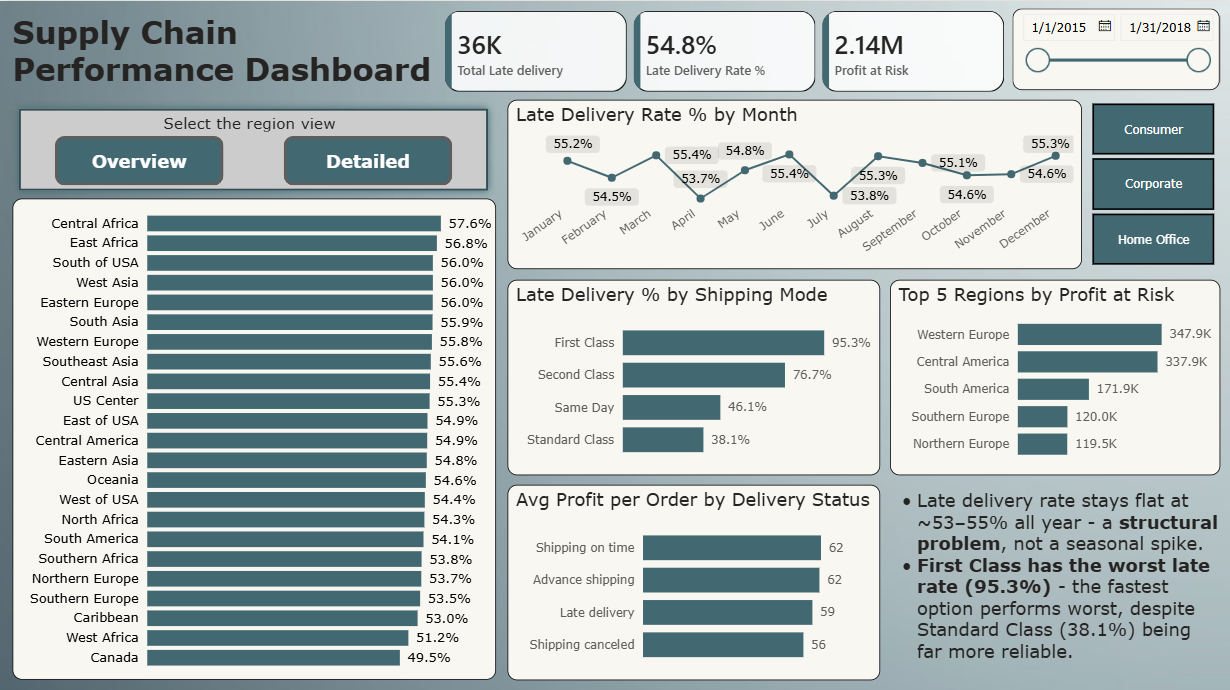

The page's visual inventory and layout, read from the dashboard file:
{"tool":"powerbi","page":{"name":"Delivery Performance","canvas":[1280,720],"ordinal":1},"visuals":[{"type":"slicer","fields":{"Values":["dim_customers.customer_segment"]},"box":[1114.3,102.9,166.2,175],"z":0},{"type":"shape","box":[12.2,104.4,503.3,101.1],"z":1000},{"type":"barChart","title":"Late Delivery % by region","fields":{"Category":["fact_orders.order_region"],"Y":["_Measures.Late Delivery Rate %"]},"box":[12.5,205,502,500],"z":2000},{"type":"slicer","fields":{"Values":["fact_orders.order_date"]},"box":[1052.5,8.2,215.4,85.1],"z":4000},{"type":"barChart","title":"Late Delivery % by Shipping Mode","fields":{"Category":["fact_orders.shipping_mode"],"Y":["_Measures.Late Delivery Rate %"]},"box":[527.1,290,387.1,202.9],"z":5000},{"type":"clusteredBarChart","title":"Avg Profit per Order by Delivery Status","fields":{"Category":["fact_orders.delivery_status"],"Y":["_Measures.Avg Profit per Order"]},"box":[527.1,502.9,387.1,202.9],"z":6000},{"type":"actionButton","title":"Overview","box":[56.7,139.9,175,51.2],"z":7000},{"type":"actionButton","title":"Overview","box":[294.4,139.9,175,51.2],"z":8000},{"type":"textbox","box":[165.6,111.1,196.7,28.9],"z":9000},{"type":"cardVisual","fields":{"Data":["_Measures.Total Late delivery","_Measures.Late Delivery Rate %","_Measures.Profit at Risk"]},"box":[451.5,0,601,104.3],"z":10000},{"type":"lineChart","fields":{"Y":["_Measures.Late Delivery Rate %"],"Category":["fact_orders.order_date.Variation.Date Hierarchy.Month","fact_orders.order_date.Variation.Date Hierarchy.Day"]},"box":[527.1,102.9,597.1,175.7],"z":11000},{"type":"textbox","box":[924.9,502.2,343.1,203.1],"z":12000},{"type":"textbox","box":[12.3,8.2,439.1,94.7],"z":13000},{"type":"barChart","title":"Top 5 Regions by Profit at Risk","fields":{"Category":["fact_orders.order_region"],"Y":["_Measures.Profit at Risk"]},"box":[924.9,289.5,343,203],"z":14000}]}

Visuals, with their boxes in screenshot pixels (x1, y1, x2, y2), scaled from the page's 1280x720 canvas onto the 1230x690 screenshot:
slicer - dim_customers.customer_segment: x1=1071, y1=99, x2=1229, y2=266
shape: x1=12, y1=100, x2=495, y2=197
"Late Delivery % by region" barChart: x1=12, y1=196, x2=494, y2=676
slicer - fact_orders.order_date: x1=1011, y1=8, x2=1218, y2=89
"Late Delivery % by Shipping Mode" barChart: x1=507, y1=278, x2=878, y2=472
"Avg Profit per Order by Delivery Status" clusteredBarChart: x1=507, y1=482, x2=878, y2=676
"Overview" actionButton: x1=54, y1=134, x2=223, y2=183
"Overview" actionButton: x1=283, y1=134, x2=451, y2=183
textbox: x1=159, y1=106, x2=348, y2=134
cardVisual - _Measures.Total Late delivery x _Measures.Late Delivery Rate %: x1=434, y1=0, x2=1011, y2=100
lineChart - _Measures.Late Delivery Rate % x fact_orders.order_date.Variation.Date Hierarchy.Month: x1=507, y1=99, x2=1080, y2=267
textbox: x1=889, y1=481, x2=1218, y2=676
textbox: x1=12, y1=8, x2=434, y2=99
"Top 5 Regions by Profit at Risk" barChart: x1=889, y1=277, x2=1218, y2=472
